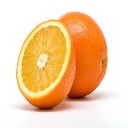orange: (14, 17, 77, 110)
